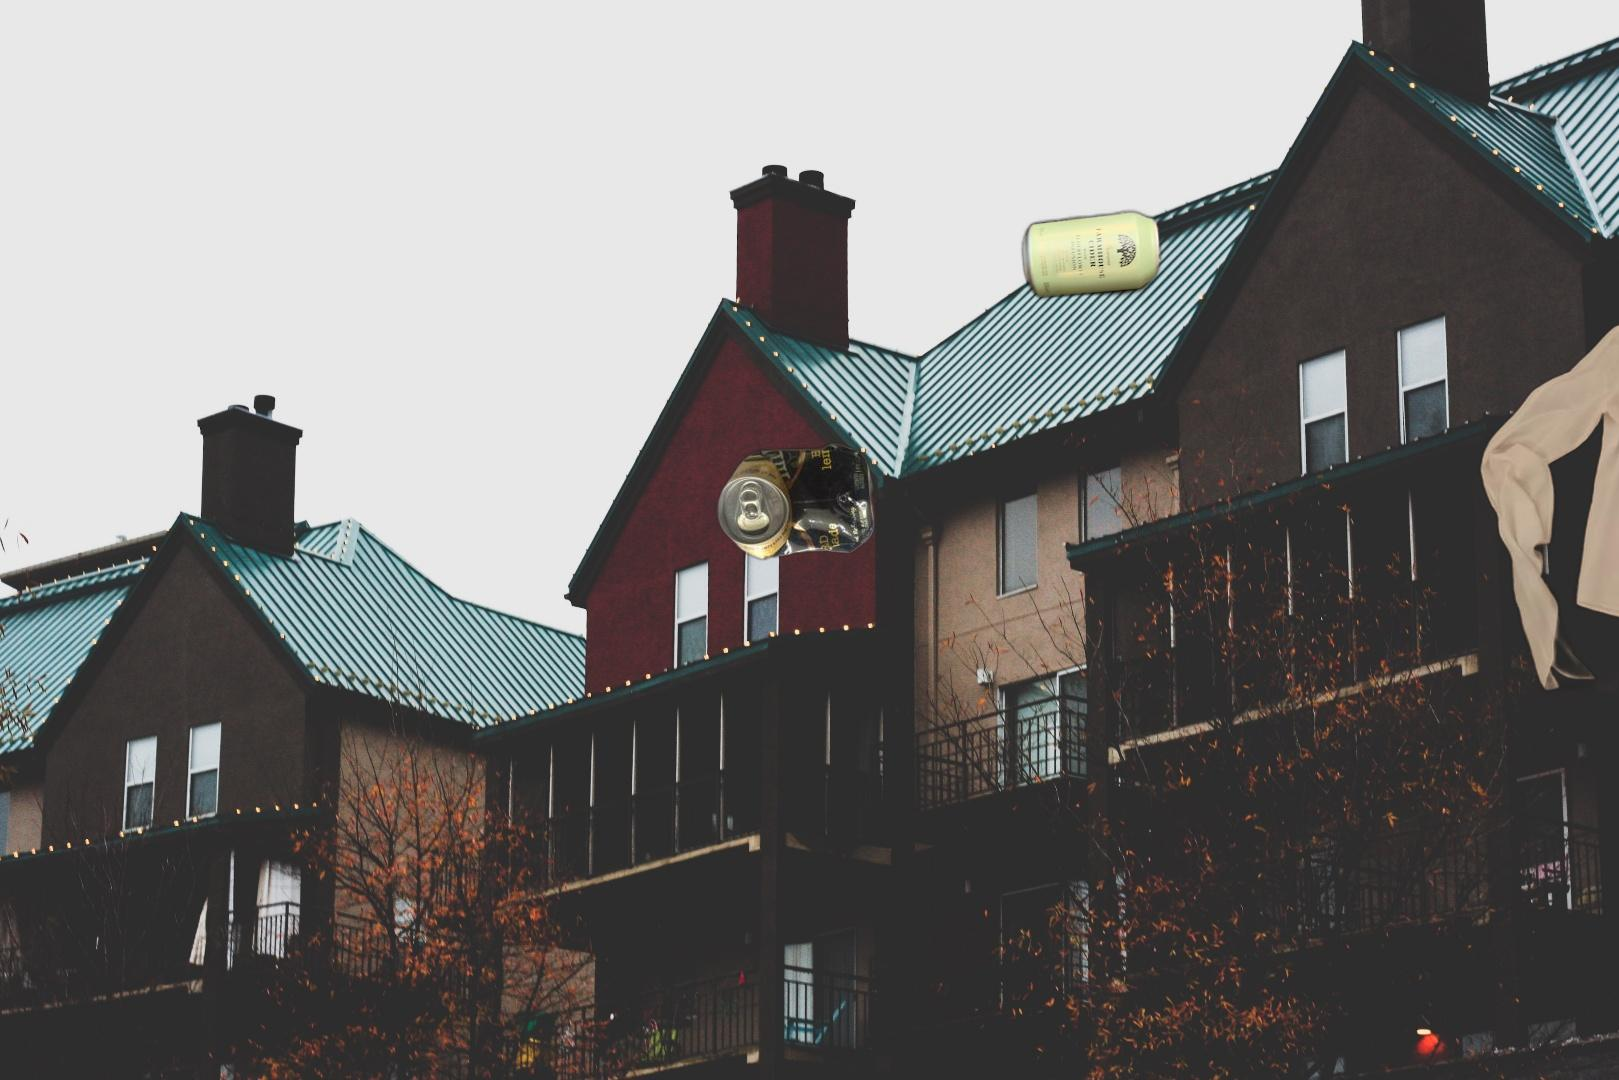clothes: (1477, 297, 1619, 697)
metal-cans: (712, 441, 882, 562), (1017, 205, 1166, 304)
